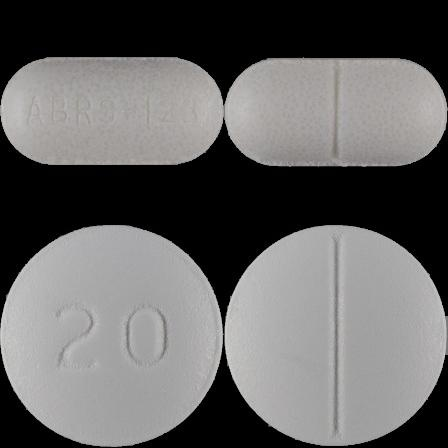50436-0157: (0, 0, 224, 224)
